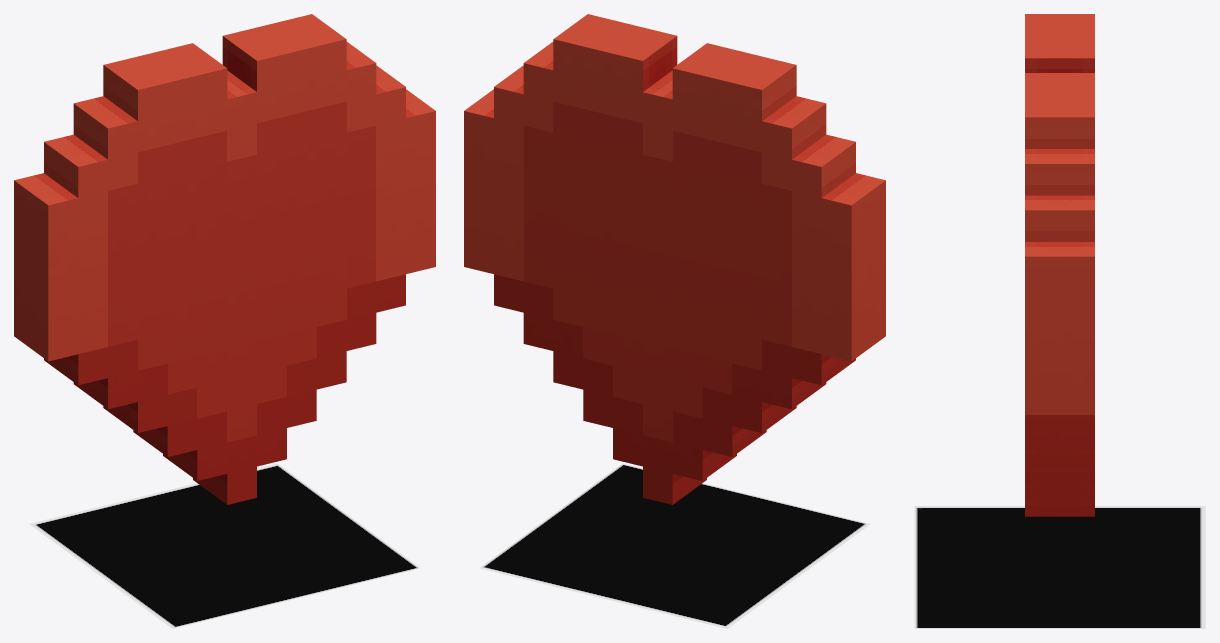
Rendered from powerup_life.FBX.
3 views of the same model, side by side, from view 1: azimuth 30°, elevation 25°; view 2: azimuth 150°, elevation 25°; view 3: azimuth 270°, elevation 25° (orthographic).
Visible parts, largest first — view 1: powerup_life, powerup_items_soft_shadow; view 2: powerup_life, powerup_items_soft_shadow; view 3: powerup_items_soft_shadow, powerup_life.
Part boxes in pixels (<box>): powerup_life: <box>14,14,435,504</box>; powerup_items_soft_shadow: <box>29,463,420,628</box>; powerup_life: <box>464,14,885,504</box>; powerup_items_soft_shadow: <box>479,463,870,628</box>; powerup_items_soft_shadow: <box>914,506,1205,628</box>; powerup_life: <box>1025,14,1094,516</box>.
Bounding box in the file's own units: 936 × 1140 × 600.
